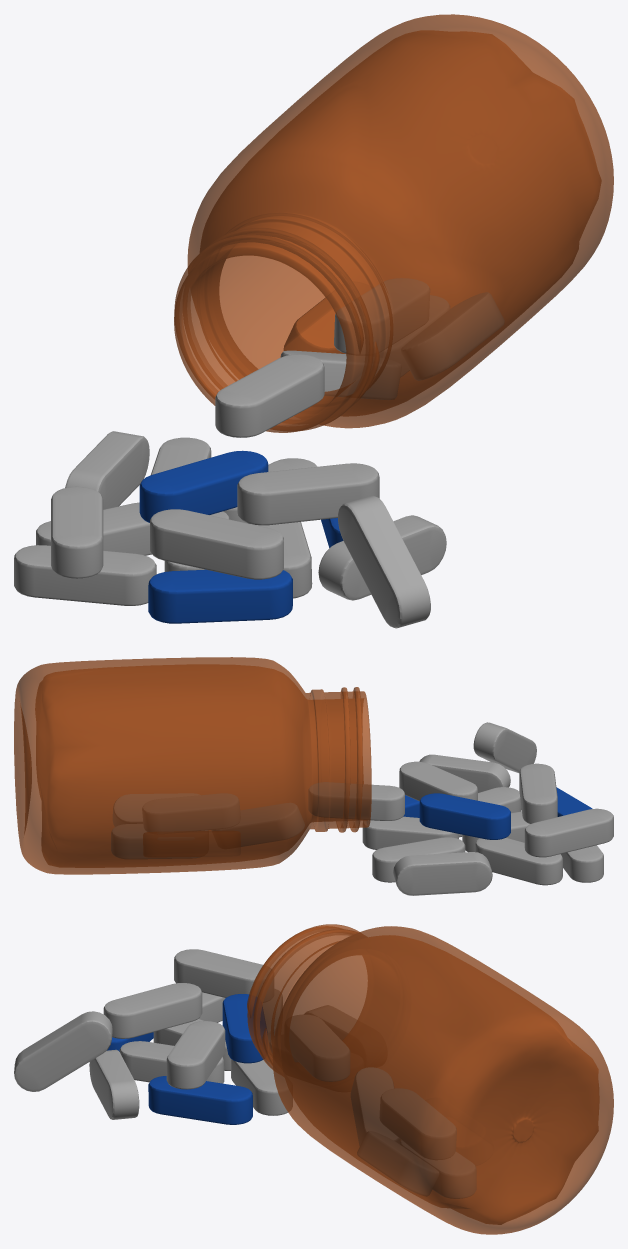
File: narcotics.obj
3 renders of one model, top to bottom at view 1: azimuth 30°, elevation 25°; view 2: azimuth 150°, elevation 25°; view 3: azimuth 270°, elevation 25°, orthographic. The views are drawn at different scales.
Visible parts, largest first — view 1: bottle, polySurface12, polySurface16, polySurface11, polySurface14, polySurface17, polySurface10, polySurface13, polySurface22, polySurface15, polySurface20, polySurface5 (+7 smaller); view 2: bottle, polySurface5, polySurface13, polySurface20, polySurface15, polySurface17, polySurface9, polySurface18, polySurface21, polySurface16, polySurface14, polySurface12 (+9 smaller); view 3: bottle, polySurface16, polySurface12, polySurface3, polySurface20, polySurface15, polySurface14, polySurface17, polySurface22, polySurface8, polySurface2, polySurface13 (+8 smaller).
Boxes of the visible parts, x1=… form: bottle: x1=174, y1=14, x2=613, y2=432; polySurface12: x1=150, y1=509, x2=283, y2=579; polySurface16: x1=338, y1=495, x2=430, y2=628; polySurface11: x1=148, y1=569, x2=292, y2=623; polySurface14: x1=237, y1=463, x2=379, y2=525; polySurface17: x1=215, y1=354, x2=324, y2=437; polySurface10: x1=14, y1=545, x2=156, y2=605; polySurface13: x1=139, y1=450, x2=268, y2=522; polySurface22: x1=401, y1=292, x2=504, y2=380; polySurface15: x1=51, y1=486, x2=103, y2=578; polySurface20: x1=334, y1=278, x2=429, y2=355; polySurface5: x1=65, y1=431, x2=149, y2=509; bottle: x1=14, y1=657, x2=371, y2=874; polySurface5: x1=393, y1=852, x2=492, y2=895; polySurface13: x1=419, y1=793, x2=510, y2=839; polySurface20: x1=142, y1=793, x2=240, y2=831; polySurface15: x1=524, y1=808, x2=613, y2=857; polySurface17: x1=308, y1=782, x2=404, y2=820; polySurface9: x1=475, y1=838, x2=562, y2=885; polySurface18: x1=212, y1=803, x2=304, y2=846; polySurface21: x1=143, y1=831, x2=240, y2=856; polySurface16: x1=473, y1=722, x2=536, y2=772; polySurface14: x1=399, y1=761, x2=477, y2=801; polySurface12: x1=519, y1=763, x2=557, y2=823; bottle: x1=247, y1=924, x2=613, y2=1234; polySurface16: x1=14, y1=1011, x2=112, y2=1091; polySurface12: x1=103, y1=983, x2=202, y2=1038; polySurface3: x1=148, y1=1076, x2=252, y2=1124; polySurface20: x1=380, y1=1088, x2=456, y2=1159; polySurface15: x1=174, y1=949, x2=273, y2=1002; polySurface14: x1=166, y1=1021, x2=225, y2=1089; polySurface17: x1=289, y1=1015, x2=349, y2=1081; polySurface22: x1=357, y1=1131, x2=439, y2=1196; polySurface8: x1=89, y1=1049, x2=139, y2=1119; polySurface2: x1=231, y1=1059, x2=292, y2=1115; polySurface13: x1=222, y1=994, x2=267, y2=1063.
Size of the model in its own units: 6.37 by 2.43 by 5.98.
